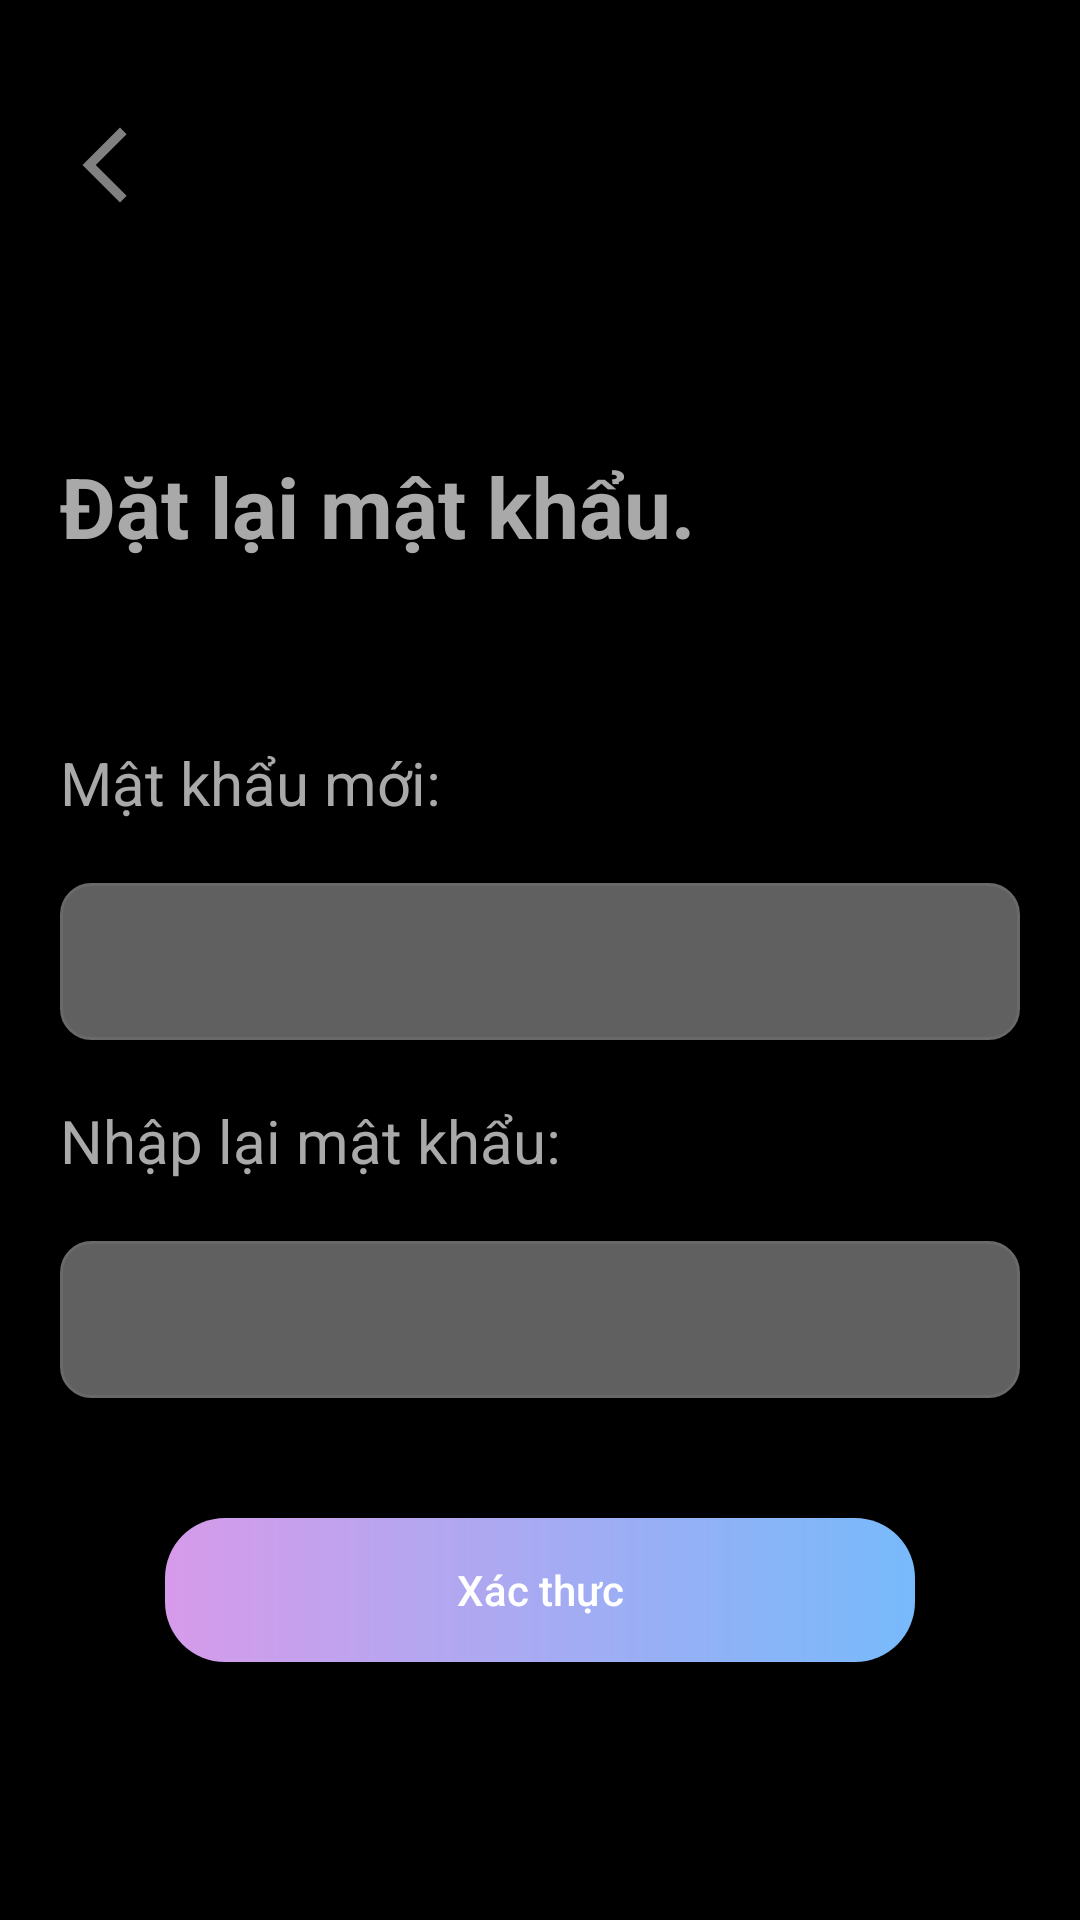

Point at icon controls on the screen. Image size 1080 x 1920, points as [x,y].
back: [105,165]
